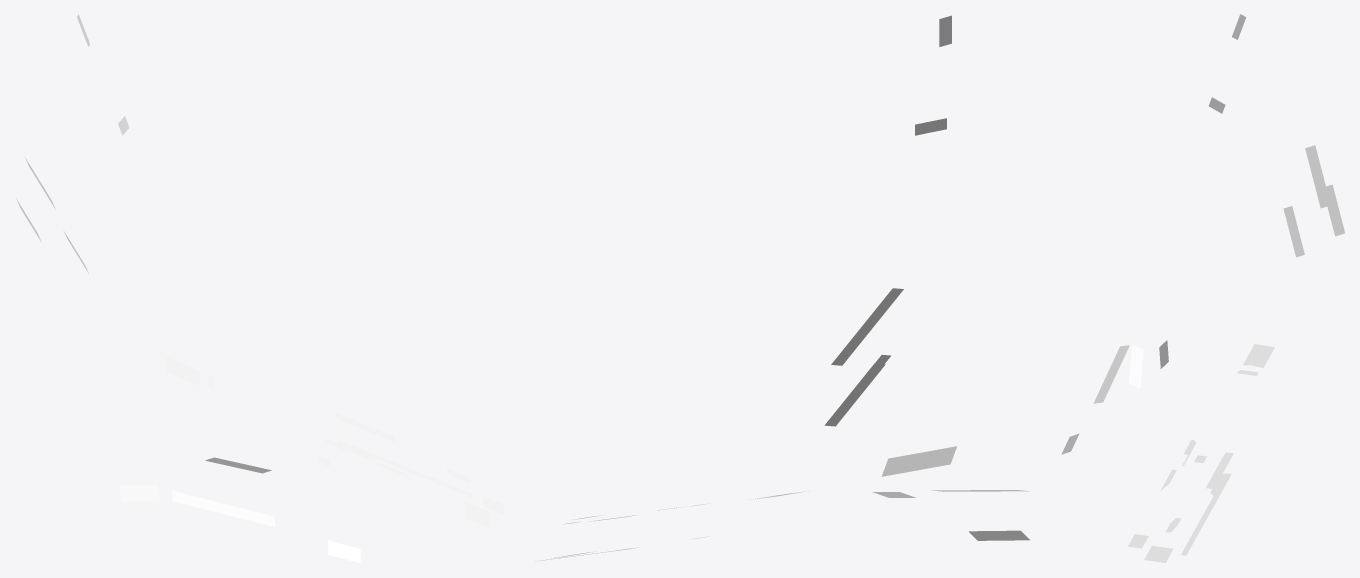
The model's file is prop_static_progenitor_derelict_07.glb.
The picture shows the model from 3 angles, left to right: view 1: azimuth 30°, elevation 25°; view 2: azimuth 150°, elevation 25°; view 3: azimuth 270°, elevation 25°; orthographic projection. The views are drawn at different scales.
Parts seen in each view (by area): view 1: progenitor_derelict_07_LOD0; view 2: progenitor_derelict_07_LOD0; view 3: progenitor_derelict_07_LOD0.
Part boxes in pixels (box(x1,y1,x2,y2)): progenitor_derelict_07_LOD0: box(16, 14, 503, 562); progenitor_derelict_07_LOD0: box(535, 15, 1029, 561); progenitor_derelict_07_LOD0: box(1061, 14, 1344, 562).
Size of what is drawn, in the model's own units: 26.3 by 37.29 by 23.01.
1 material, 1 textured.
